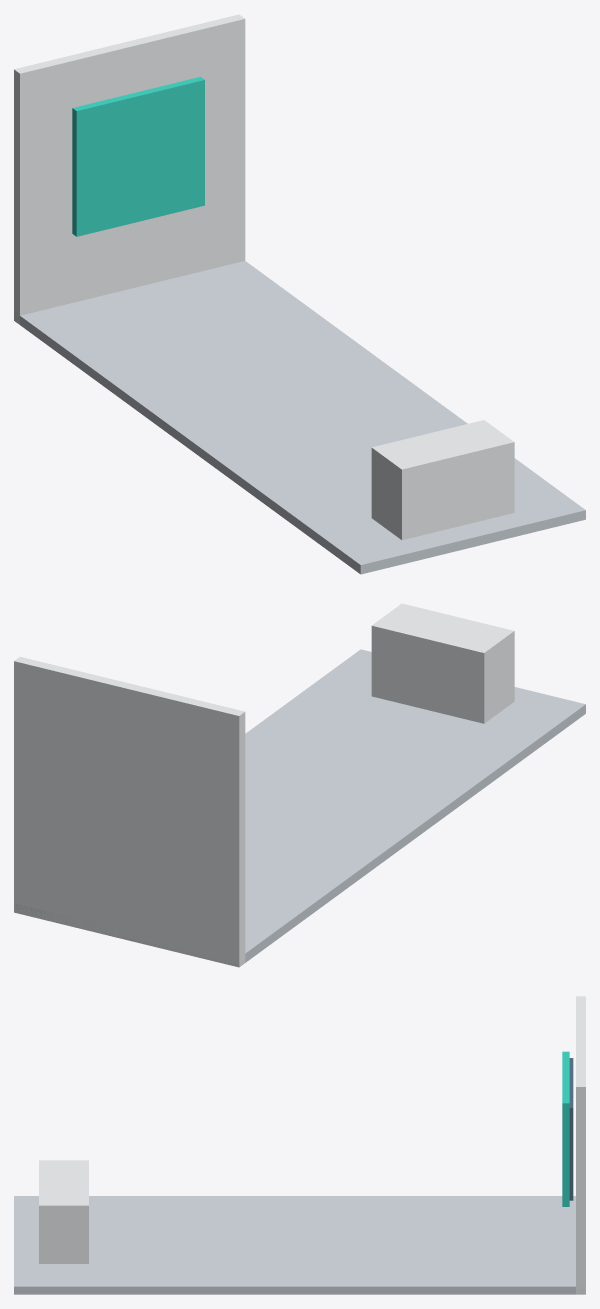
3 renders of one model, top to bottom at view 1: azimuth 30°, elevation 25°; view 2: azimuth 150°, elevation 25°; view 3: azimuth 270°, elevation 25°, orthographic. The views are drawn at different scales.
Visible parts, largest first — view 1: Exhibition Booth Concept; view 2: Exhibition Booth Concept; view 3: Exhibition Booth Concept.
Part boxes in pixels (x1,y1,x2,y2): Exhibition Booth Concept: (14, 14, 585, 574); Exhibition Booth Concept: (14, 603, 585, 967); Exhibition Booth Concept: (14, 996, 585, 1294).
Size of the model in its own units: 3 by 3.2 by 8.
